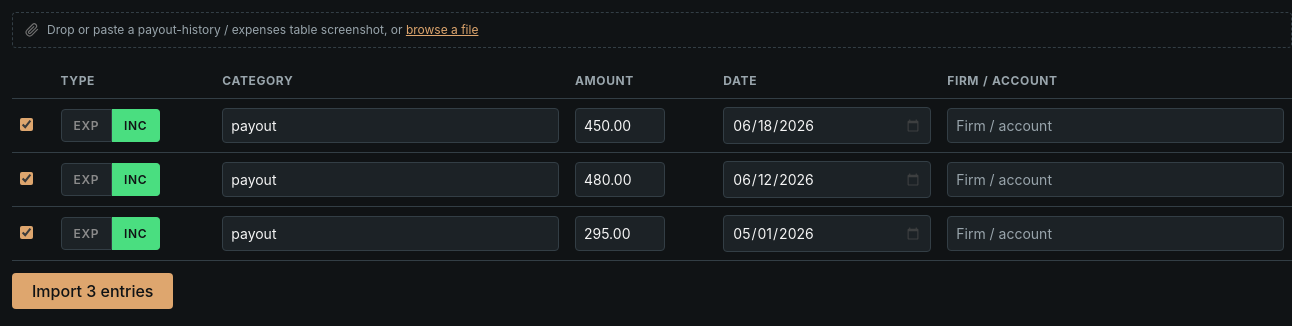
Test: FinancialBulkImport › disables the import button when a checked row is missing a required field
Clear the 1st field with class "draft-input--category" at (391, 126), box [222, 108, 559, 143]
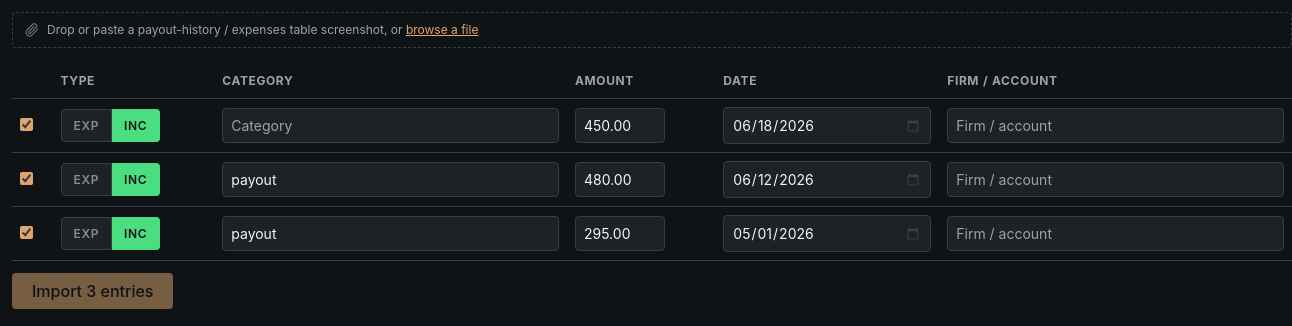
Check: the button with class "import-button" is disabled, box [12, 273, 173, 309]
